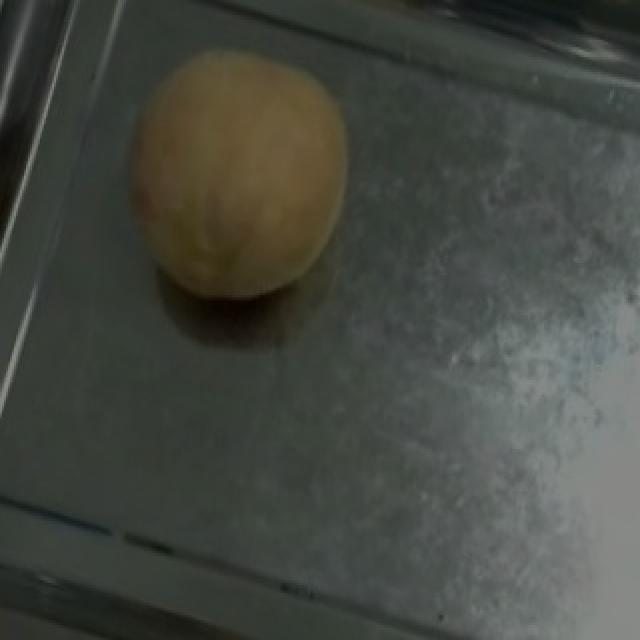Fruit: (82, 8, 400, 348)
